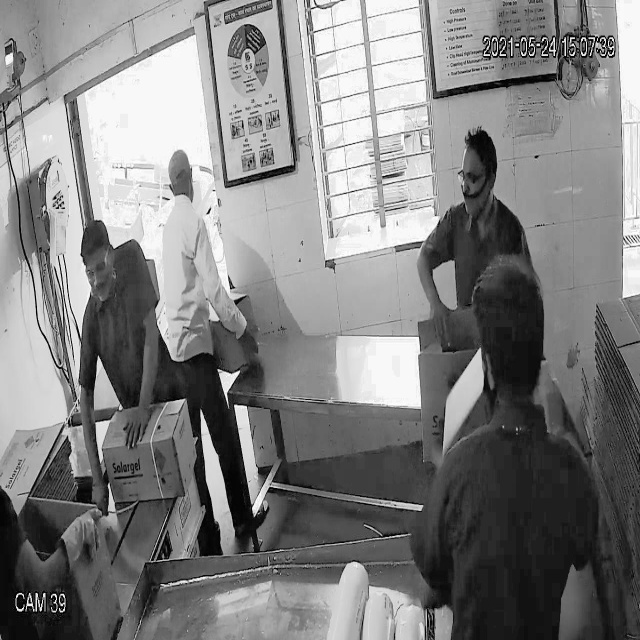Gafas: (80, 248, 112, 284), (455, 164, 494, 193)
